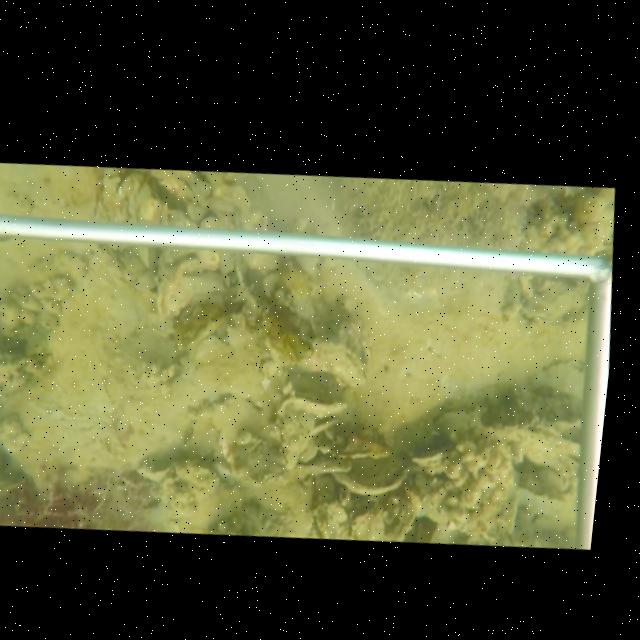Oyster-Closed: (291, 337, 368, 386), (272, 413, 311, 473)
